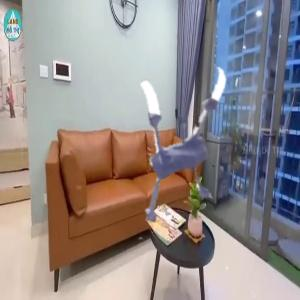drone: (89, 56, 261, 228)
